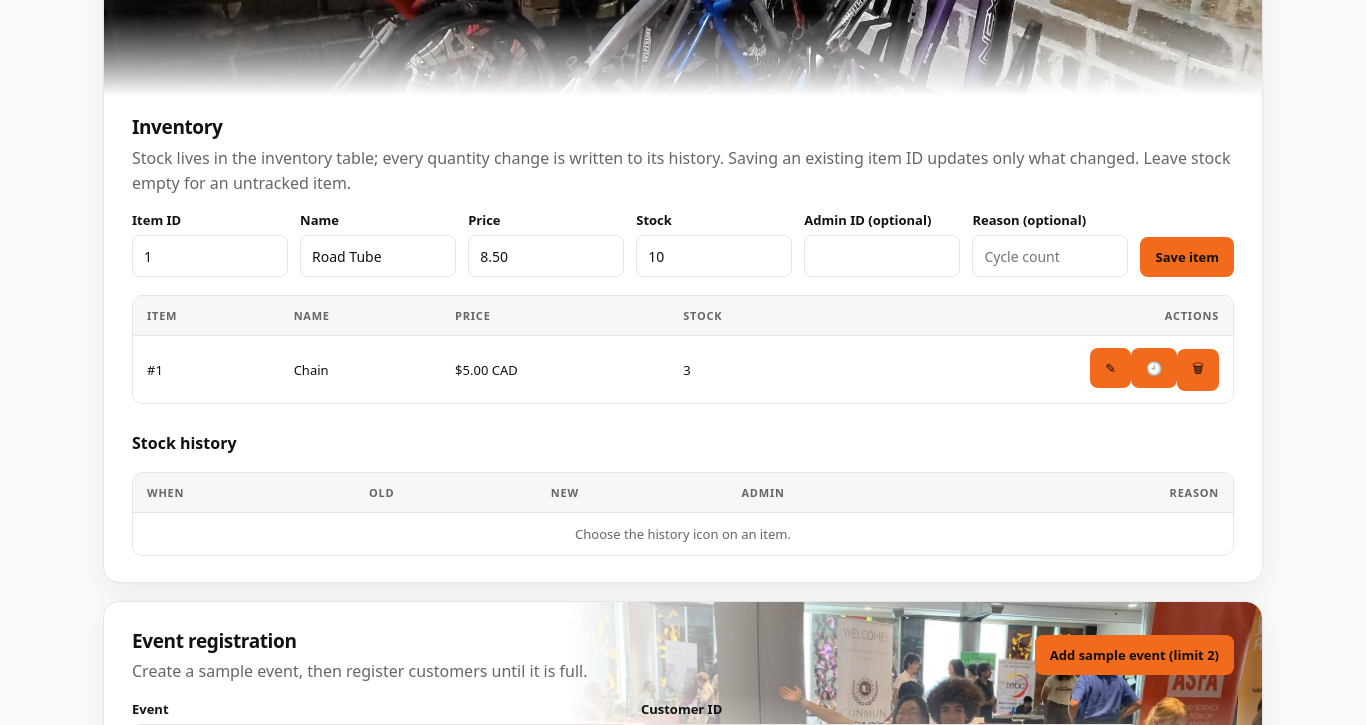
Test: edits inventory, loads history, and registers a customer
The image size is (1366, 725).
Later steps or results of the test are not shown.
(page scrolled)
Click the button named "Edit item #1" at (1111, 368), box [1090, 348, 1131, 388]
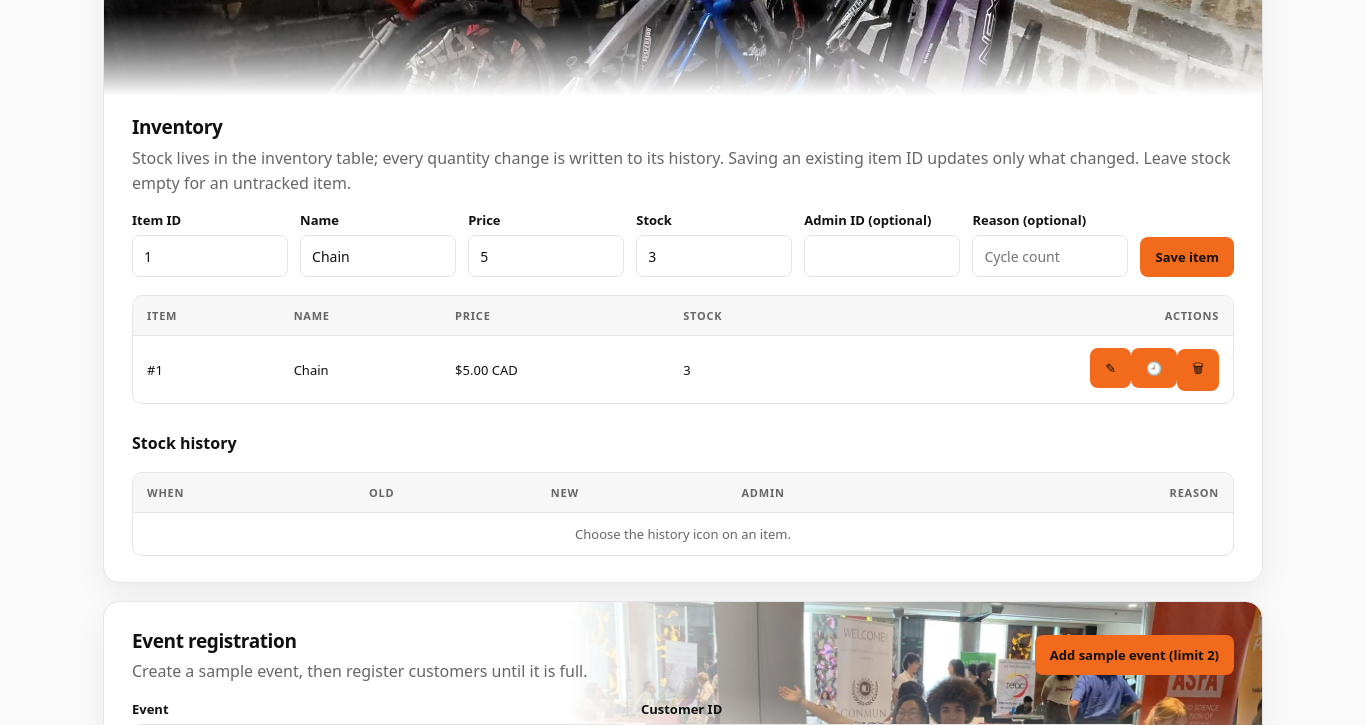
Now the field labelled "Name" holds "Chain", box [300, 235, 456, 277]
Replace the text in the number field labelled "Stock" with "4" at (714, 256), box [636, 235, 792, 277]
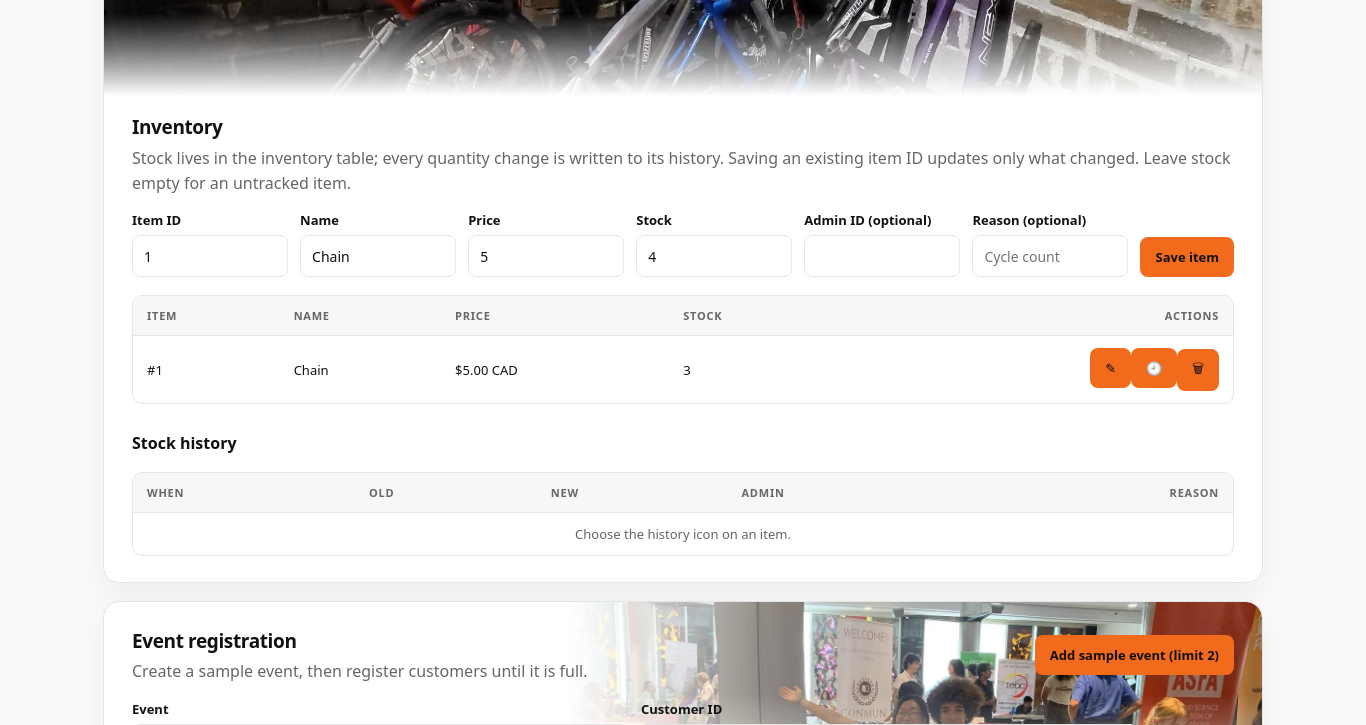
Submit the form "Save item", box [132, 211, 1234, 277]
(page scrolled)
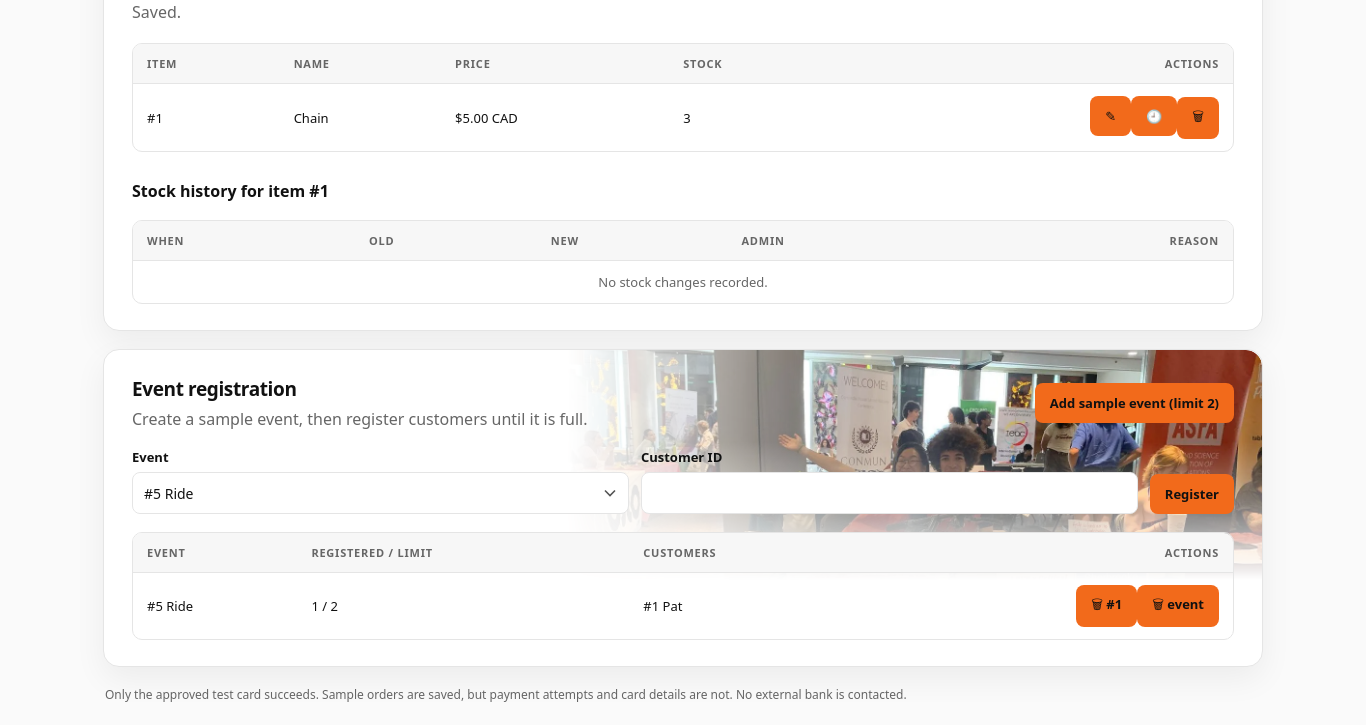
Expected: the cell "#5 Ride" is shown, [133, 573, 297, 639]
Now the text "No stock changes recorded." is shown, box [133, 261, 1233, 303]
